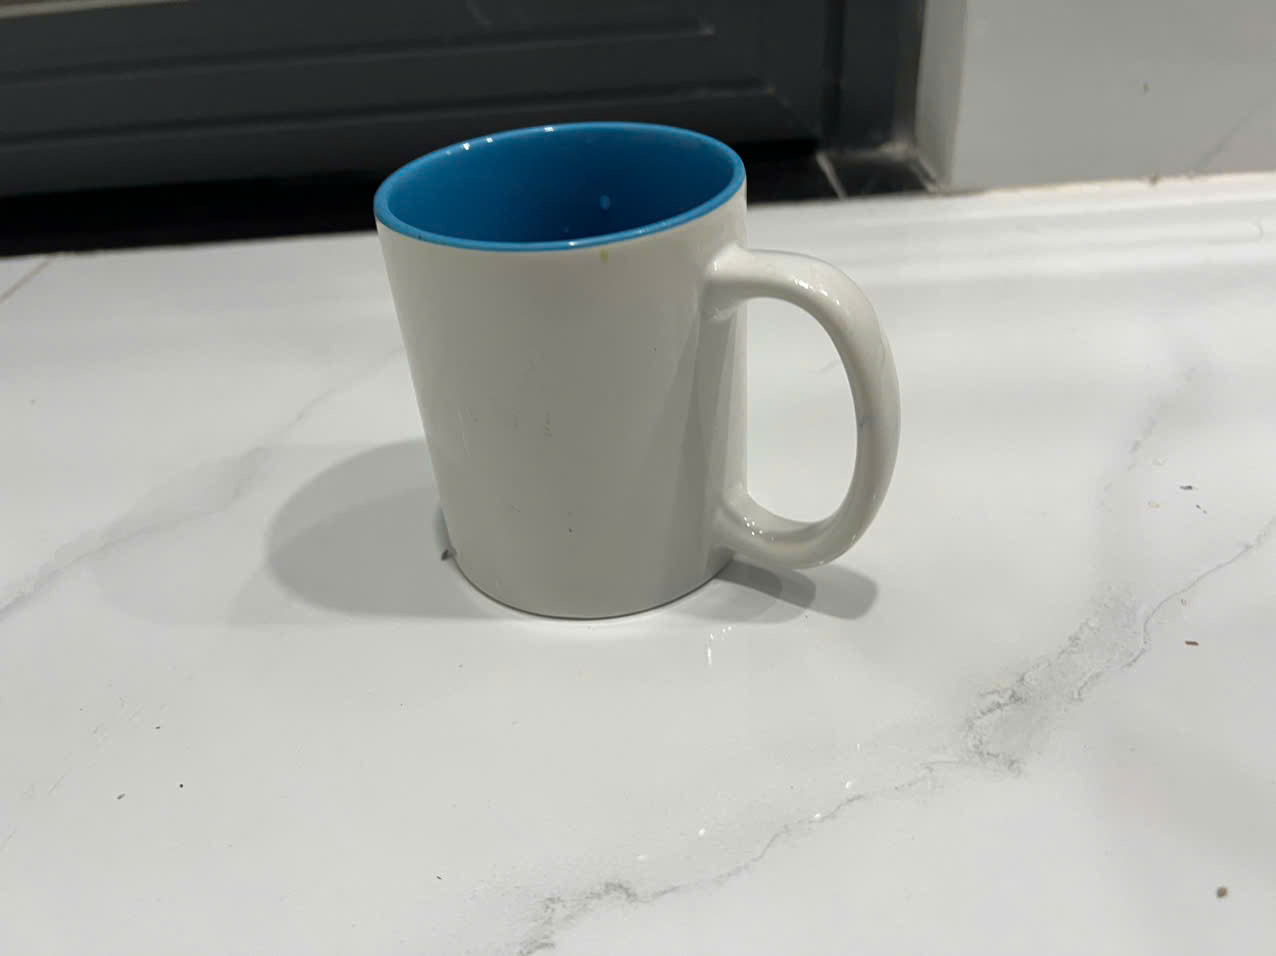ly coc: (330, 128, 906, 645)
